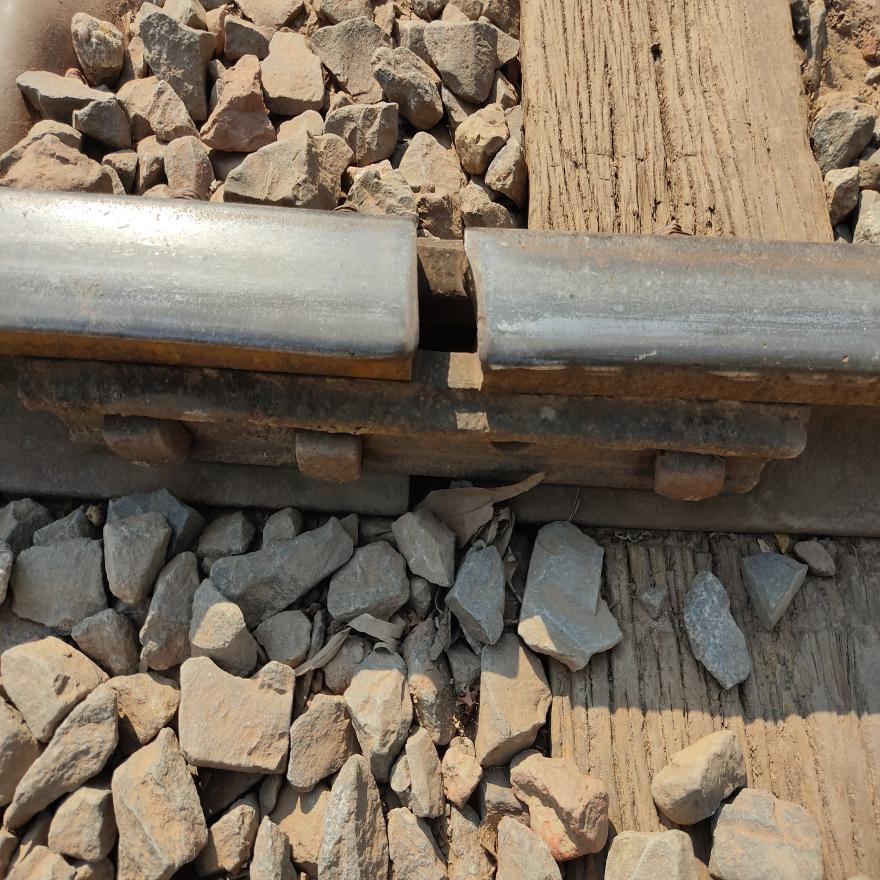railway-gap: (344, 193, 547, 431)
